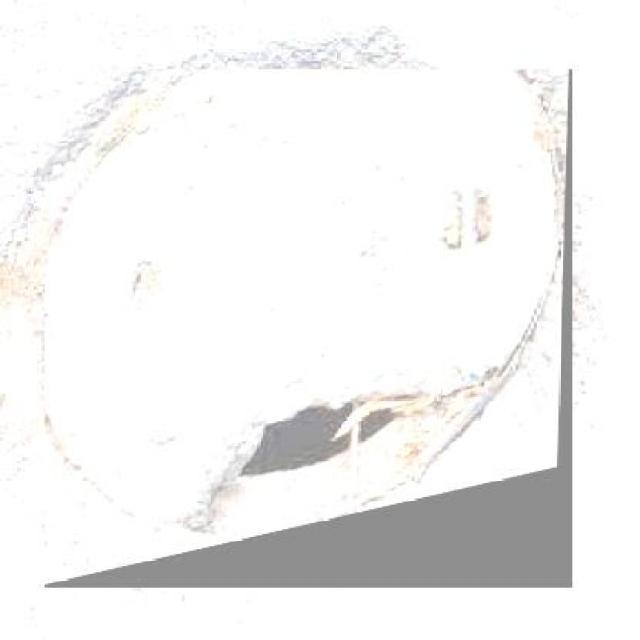Manhole: (45, 69, 572, 588)
Pothole: (189, 364, 456, 548)
